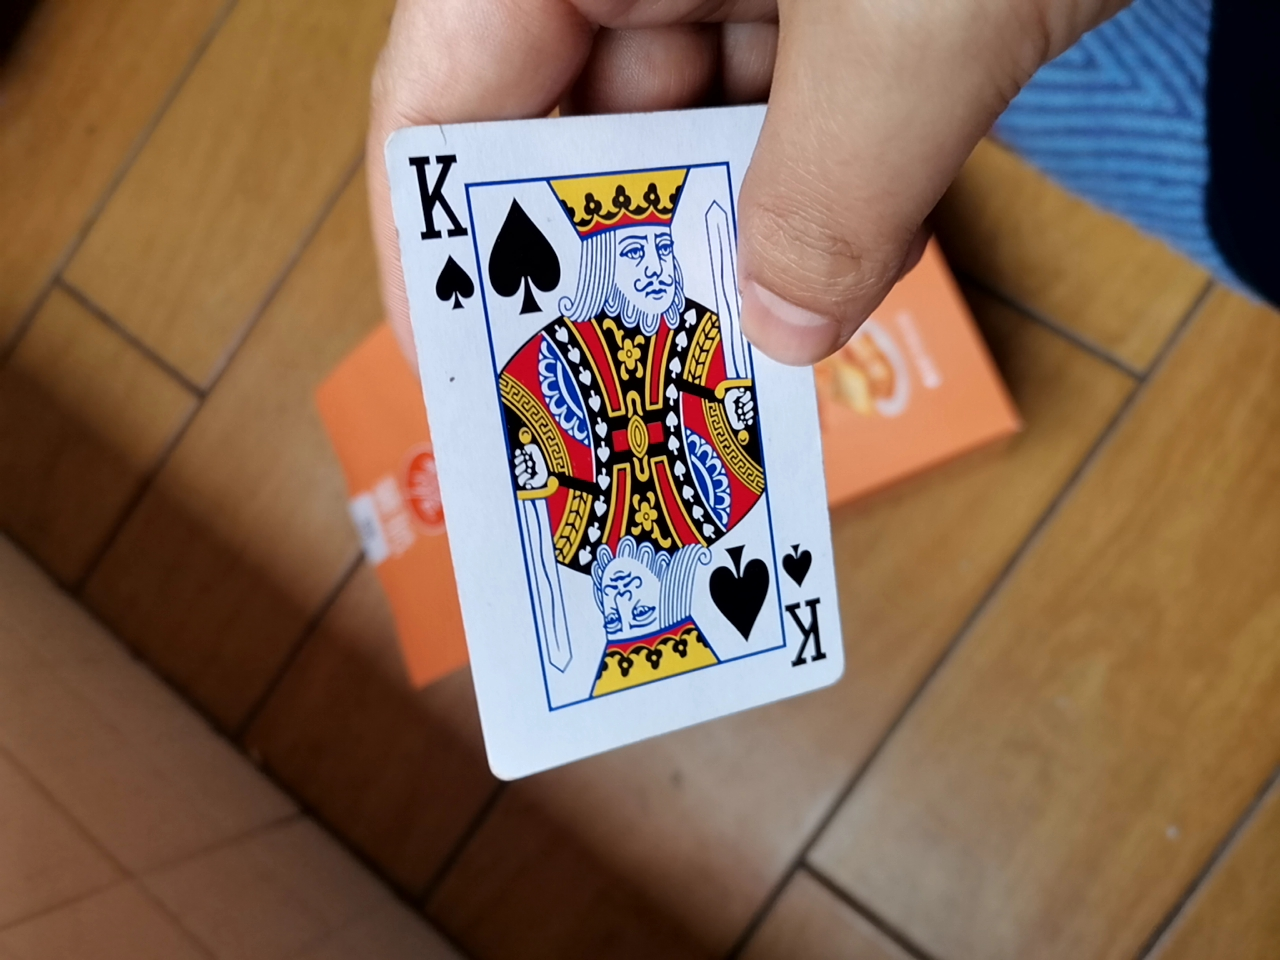ht k: (390, 87, 862, 802)
